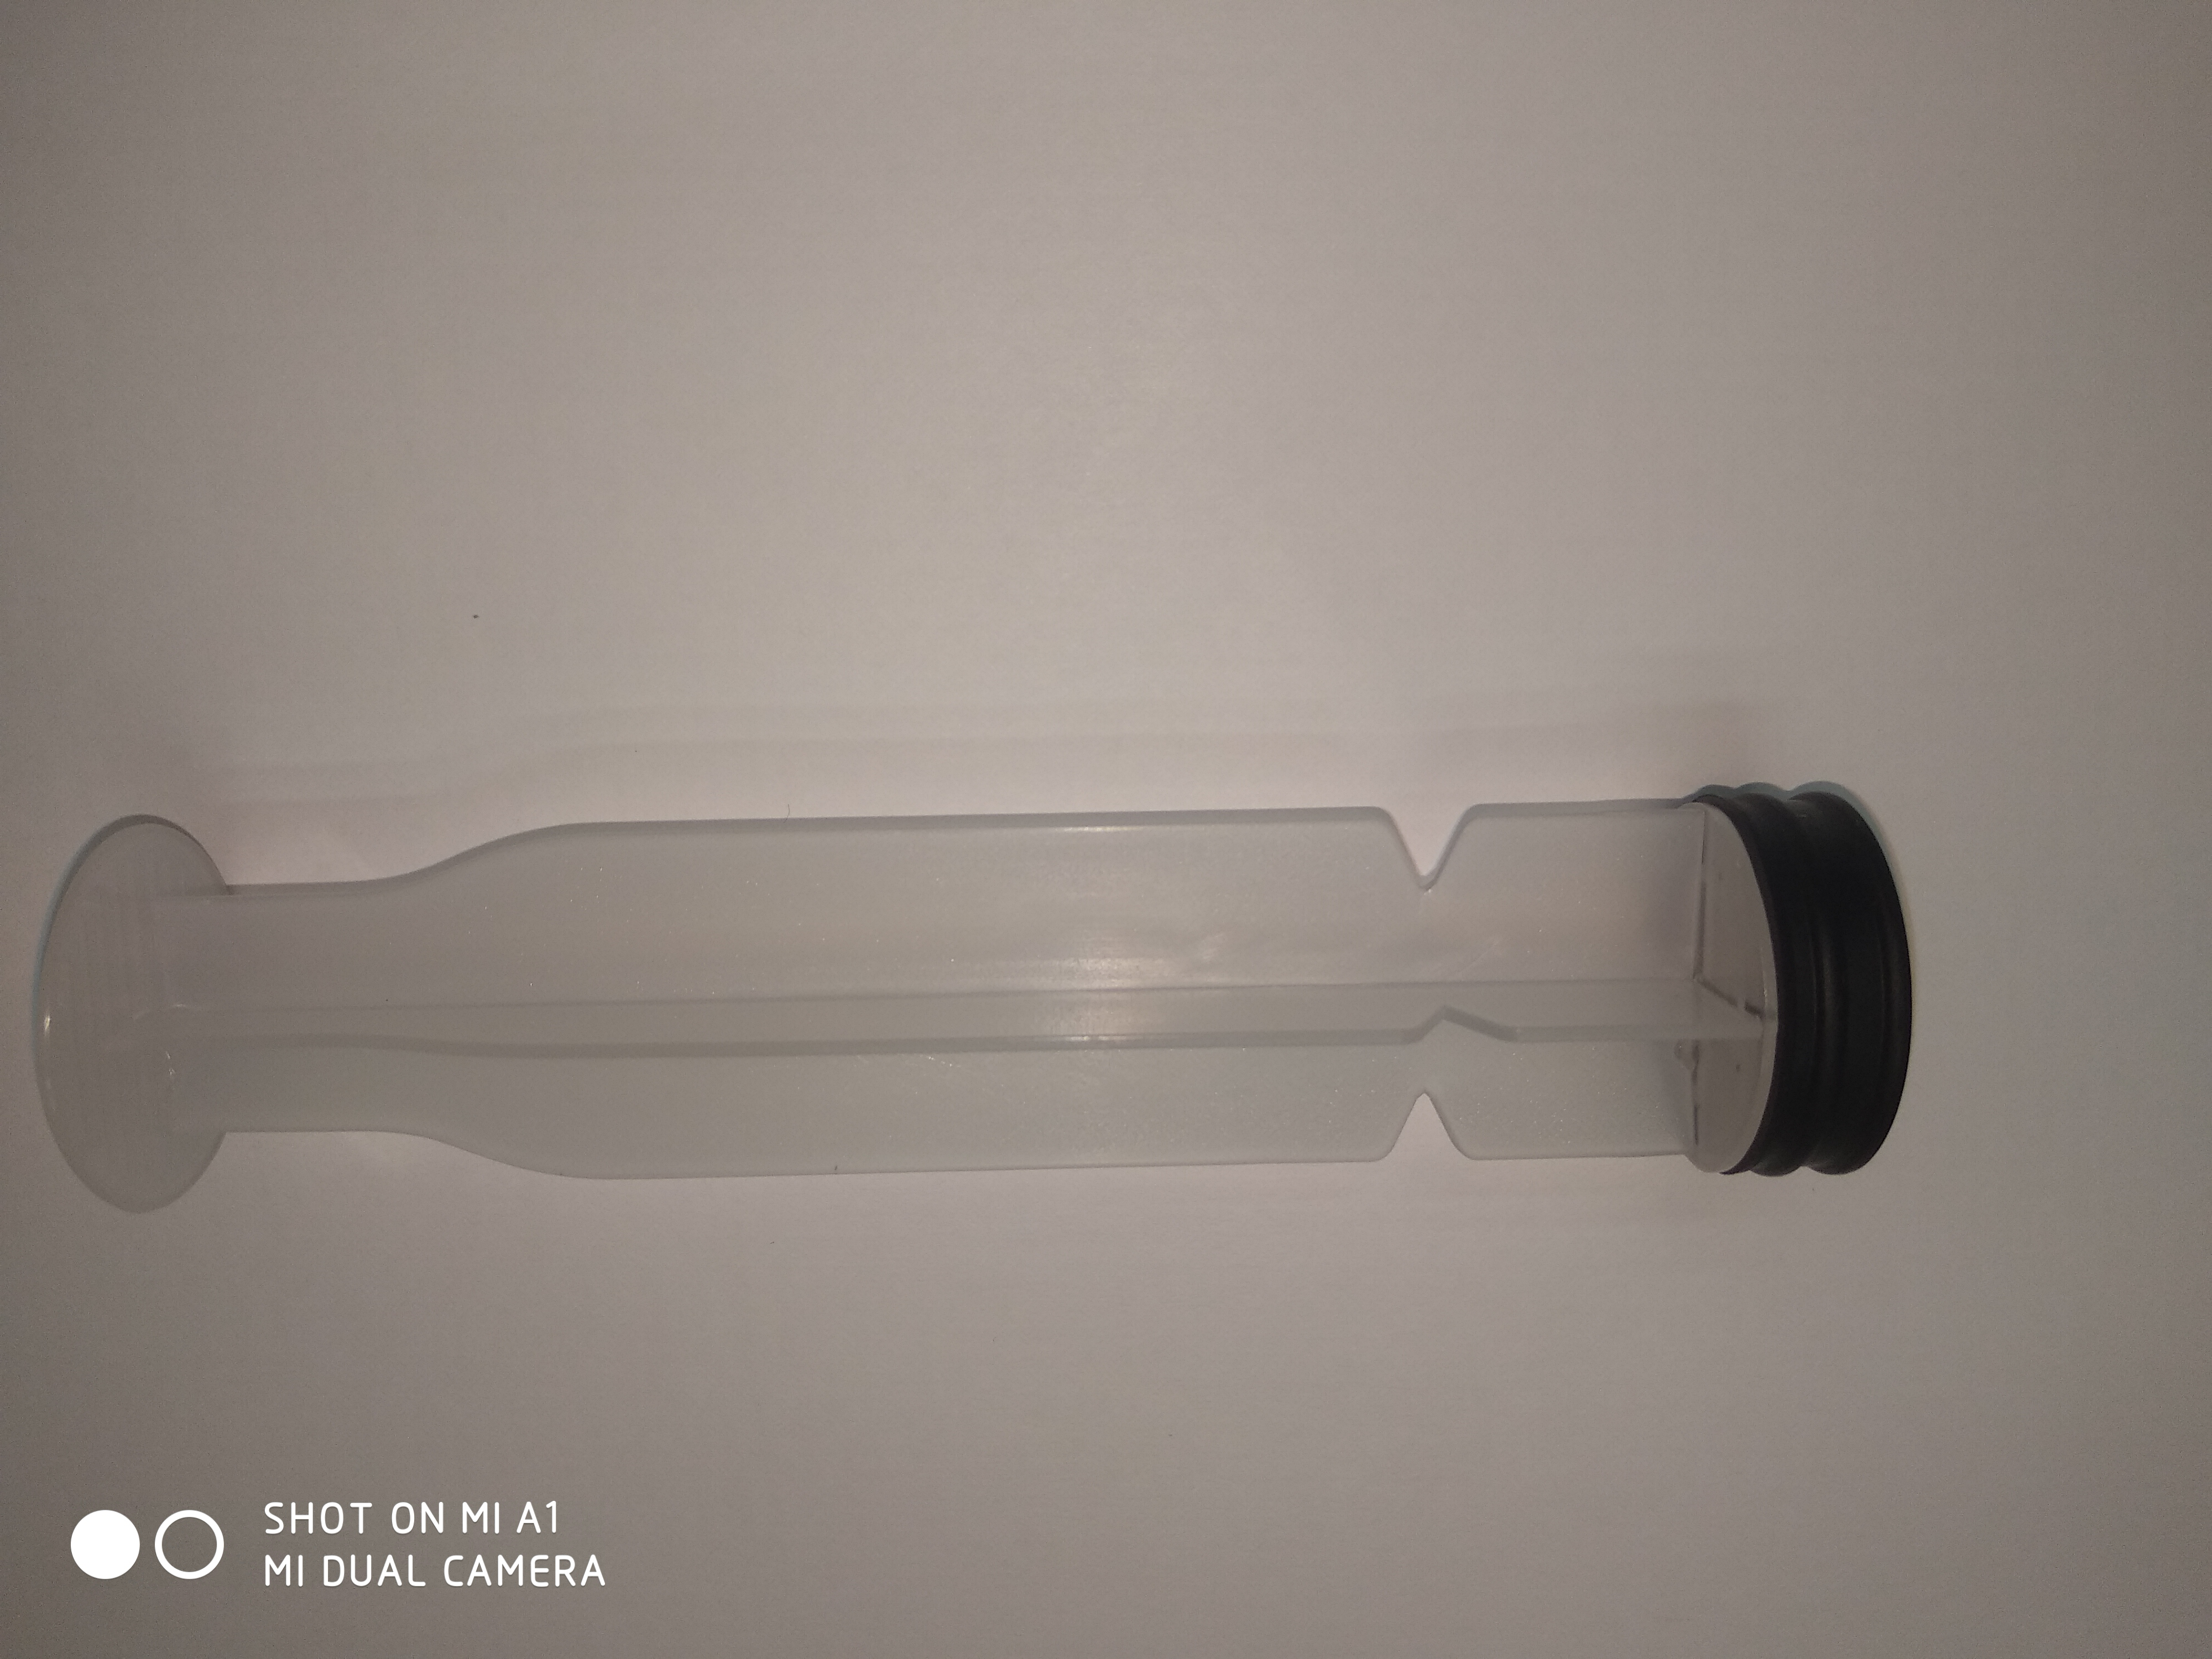plunger: (28, 779, 1909, 1222)
